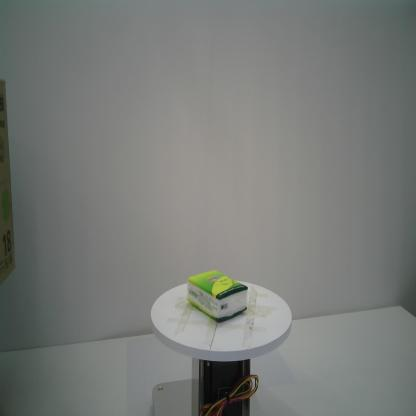Tissue: (185, 269, 249, 323)
